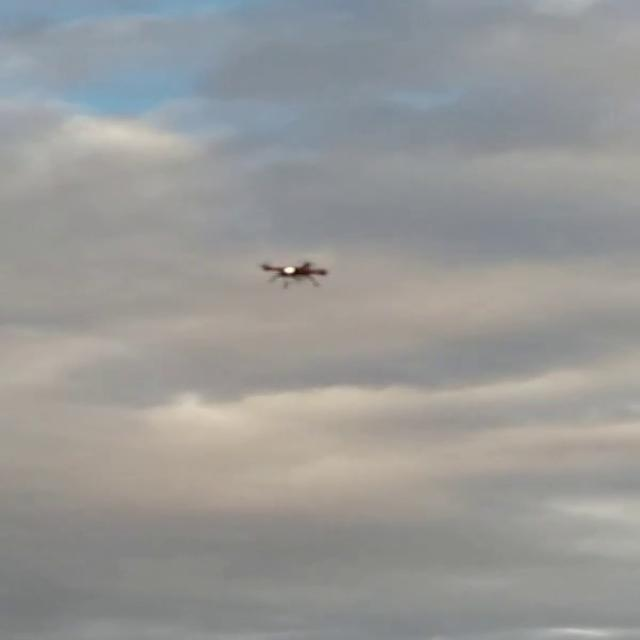drone: (256, 257, 332, 291)
